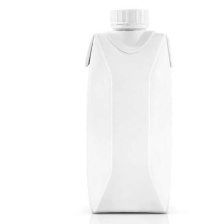carton: (85, 5, 177, 218)
